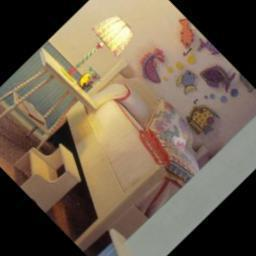Escaleras: (7, 128, 91, 212)
